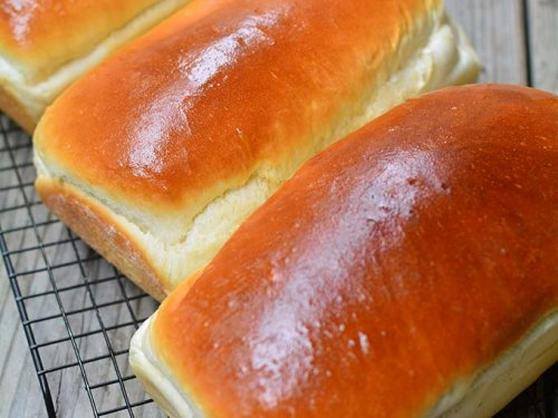white_bread: (48, 3, 483, 306)
